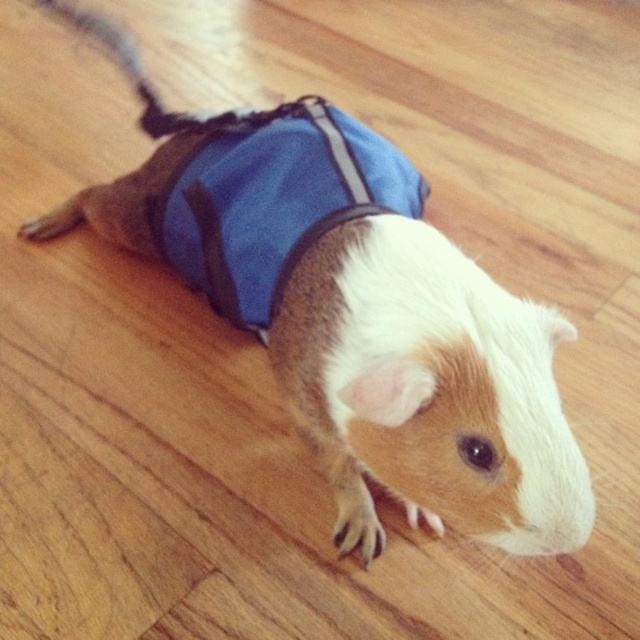Hamster: (0, 0, 628, 595)
